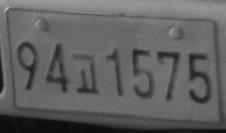1: (103, 46, 128, 96)
4: (44, 43, 70, 92)
5: (187, 52, 212, 103), (131, 48, 154, 98)
7: (156, 50, 180, 101)
9: (15, 40, 37, 90)
고: (71, 53, 99, 93)
